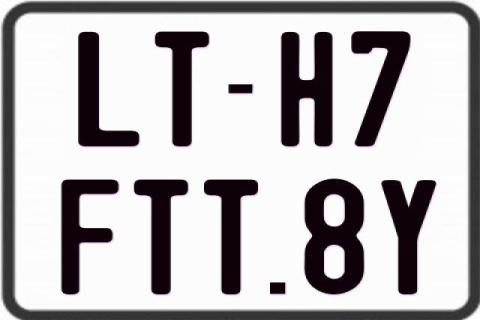0: (302, 176, 363, 296), (351, 30, 414, 146)
F: (60, 178, 122, 298)
H: (282, 31, 338, 147)
L: (77, 30, 143, 150)
T: (154, 30, 210, 148), (202, 178, 257, 294), (131, 179, 185, 295)
Y: (381, 179, 437, 293)
